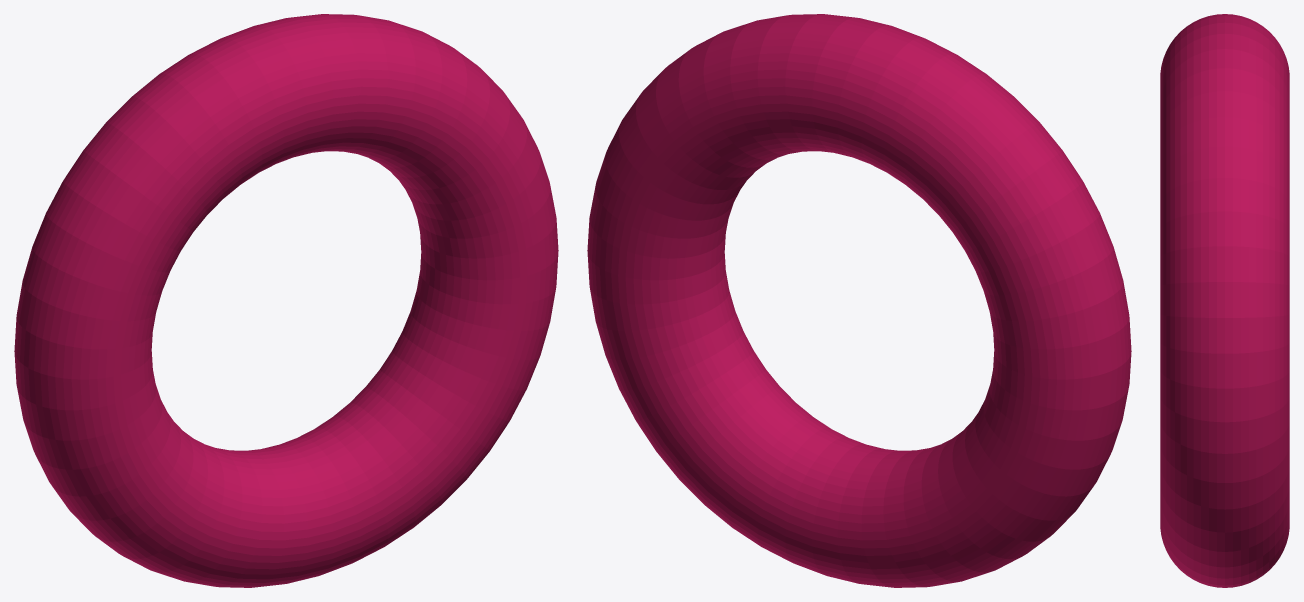
3 views of the same model, side by side, from view 1: azimuth 30°, elevation 25°; view 2: azimuth 150°, elevation 25°; view 3: azimuth 270°, elevation 25° (orthographic). The views are drawn at different scales.
Parts seen in each view (by area): view 1: world; view 2: world; view 3: world.
Part boxes in pixels (x1,y1,x2,y2): world: (14,14,558,587); world: (587,14,1131,587); world: (1160,14,1289,587).
Size of the model in its own units: 33.6 by 33.53 by 7.59.
